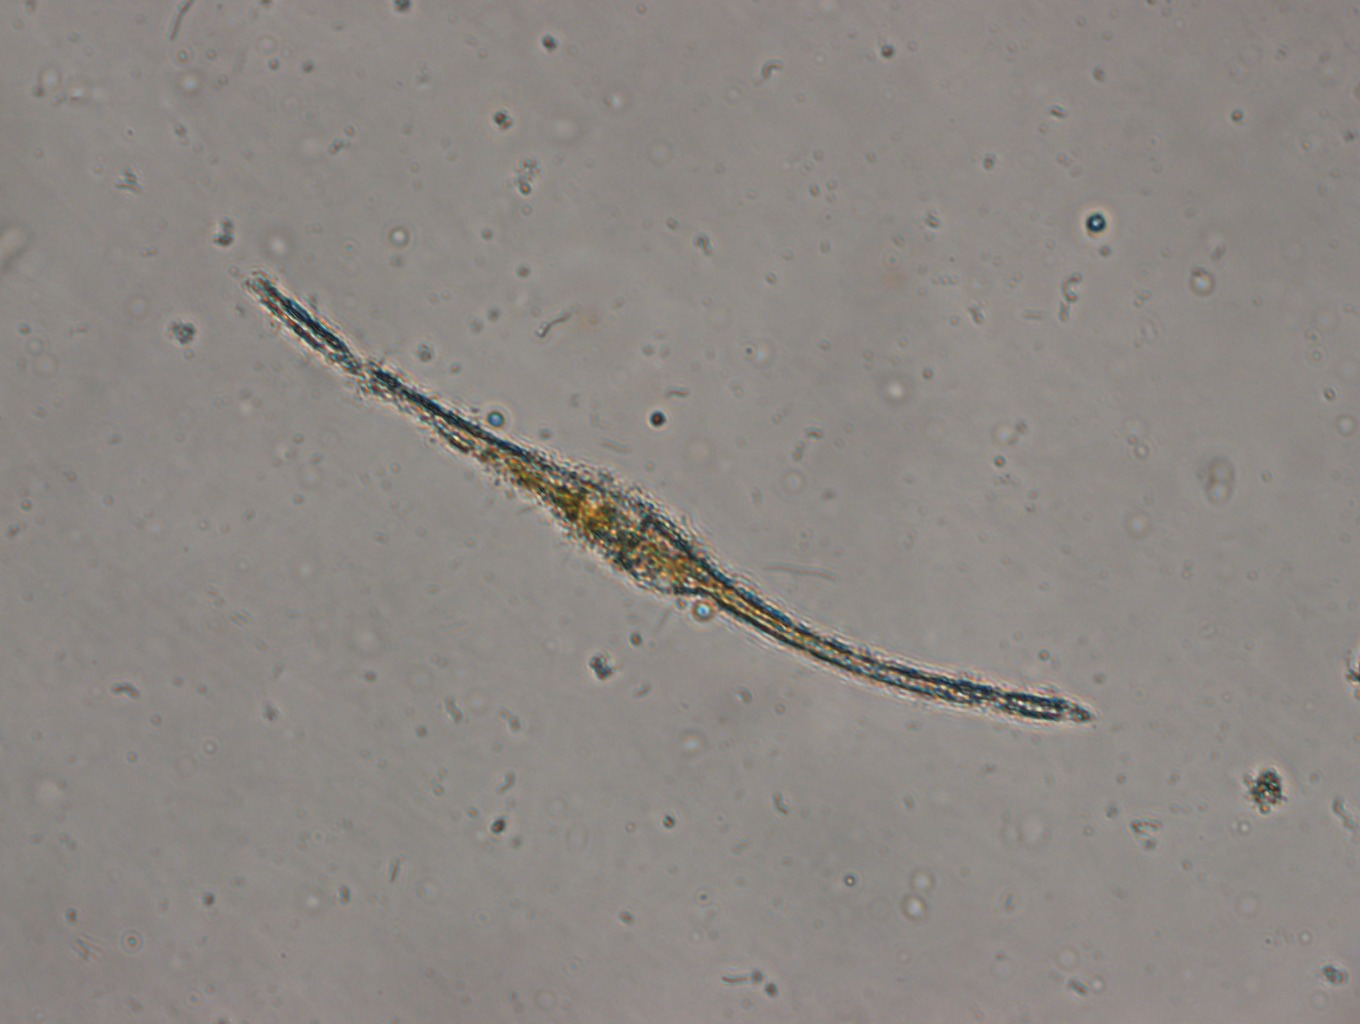ceratium fusus: (237, 273, 1099, 733)
